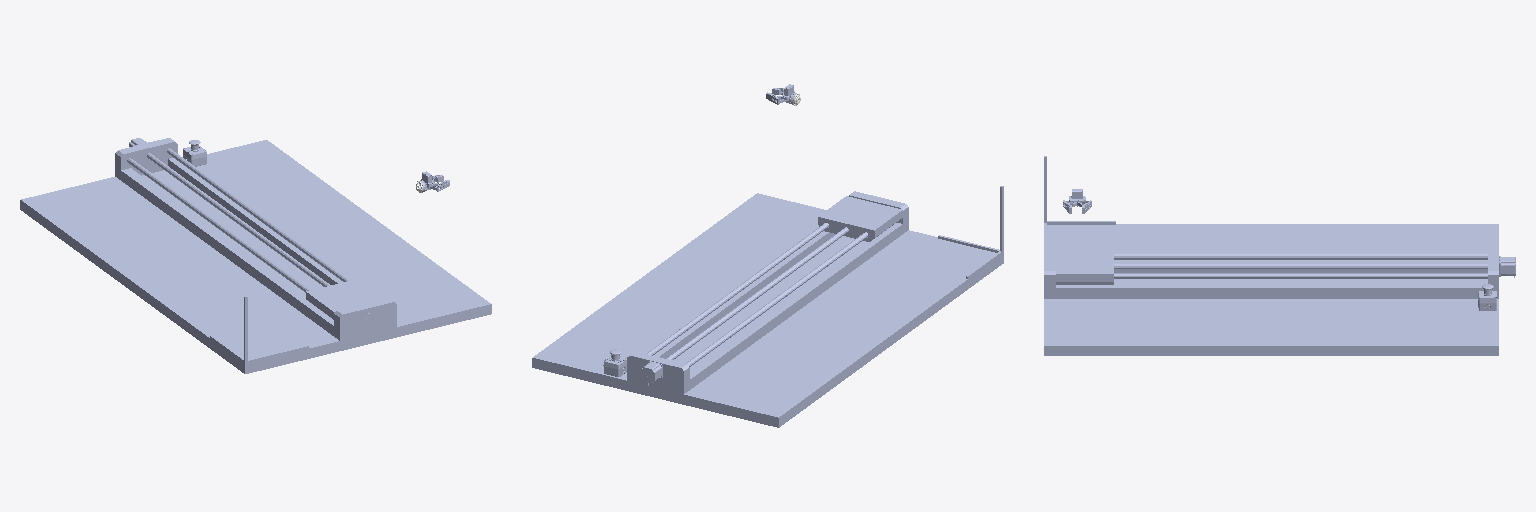
URDF robot description (URDF_Assembly_6_DOFRA_v3):
<?xml version="1.0" encoding="utf-8"?>
<!-- This URDF was automatically created by SolidWorks to URDF Exporter! Originally created by [author] ([email redacted]) 
     Commit Version: 1.6.0-4-g7f85cfe  Build Version: 1.6.7995.38578
     For more information, please see http://wiki.ros.org/sw_urdf_exporter -->
<robot
  name="URDF_Assembly_6_DOFRA_v3">
  <link
    name="base_link">
    <inertial>
      <origin
        xyz="0.49973 0.79194 -0.013418"
        rpy="0 0 0" />
      <mass
        value="71.56" />
      <inertia
        ixx="14.411"
        ixy="-0.025045"
        ixz="0.0024517"
        iyy="5.3022"
        iyz="0.0039428"
        izz="19.69" />
    </inertial>
    <visual>
      <origin
        xyz="0 0 0"
        rpy="0 0 0" />
      <geometry>
        <mesh
          filename="package://URDF_Assembly_6_DOFRA_v3/meshes/base_link.STL" />
      </geometry>
      <material
        name="">
        <color
          rgba="0.79216 0.81961 0.93333 1" />
      </material>
    </visual>
    <collision>
      <origin
        xyz="0 0 0"
        rpy="0 0 0" />
      <geometry>
        <mesh
          filename="package://URDF_Assembly_6_DOFRA_v3/meshes/base_link.STL" />
      </geometry>
    </collision>
  </link>
  <link
    name="linear_sledge">
    <inertial>
      <origin
        xyz="0 -0.024264 0.1"
        rpy="0 0 0" />
      <mass
        value="1.9919" />
      <inertia
        ixx="0.0070823"
        ixy="6.2528E-19"
        ixz="-4.1748E-19"
        iyy="0.014858"
        iyz="6.6004E-20"
        izz="0.008661" />
    </inertial>
    <visual>
      <origin
        xyz="0 0 0"
        rpy="0 0 0" />
      <geometry>
        <mesh
          filename="package://URDF_Assembly_6_DOFRA_v3/meshes/linear_sledge.STL" />
      </geometry>
      <material
        name="">
        <color
          rgba="0.79216 0.81961 0.93333 1" />
      </material>
    </visual>
    <collision>
      <origin
        xyz="0 0 0"
        rpy="0 0 0" />
      <geometry>
        <mesh
          filename="package://URDF_Assembly_6_DOFRA_v3/meshes/linear_sledge.STL" />
      </geometry>
    </collision>
  </link>
  <joint
    name="linear_axis"
    type="prismatic">
    <origin
      xyz="0.5 0.04 0.095"
      rpy="1.5708 0 3.1416" />
    <parent
      link="base_link" />
    <child
      link="linear_sledge" />
    <axis
      xyz="0 0 1" />
    <limit
      lower="0"
      upper="1.3"
      effort="0"
      velocity="0" />
  </joint>
  <link
    name="link_0">
    <inertial>
      <origin
        xyz="0.022817 0.049403 3.7314E-07"
        rpy="0 0 0" />
      <mass
        value="0.99277" />
      <inertia
        ixx="0.0020036"
        ixy="-0.00015881"
        ixz="-5.4195E-09"
        iyy="0.0044439"
        iyz="-2.3861E-10"
        izz="0.0029527" />
    </inertial>
    <visual>
      <origin
        xyz="0 0 0"
        rpy="0 0 0" />
      <geometry>
        <mesh
          filename="package://URDF_Assembly_6_DOFRA_v3/meshes/link_0.STL" />
      </geometry>
      <material
        name="">
        <color
          rgba="0.79216 0.81961 0.93333 1" />
      </material>
    </visual>
    <collision>
      <origin
        xyz="0 0 0"
        rpy="0 0 0" />
      <geometry>
        <mesh
          filename="package://URDF_Assembly_6_DOFRA_v3/meshes/link_0.STL" />
      </geometry>
    </collision>
  </link>
  <joint
    name="fixed_joint"
    type="fixed">
    <origin
      xyz="0 0 0.1"
      rpy="0 0 0" />
    <parent
      link="linear_sledge" />
    <child
      link="link_0" />
    <axis
      xyz="0 0 0" />
  </joint>
  <link
    name="link1">
    <inertial>
      <origin
        xyz="-0.038493 0.0097978 0.060588"
        rpy="0 0 0" />
      <mass
        value="0.98184" />
      <inertia
        ixx="0.0010908"
        ixy="-9.74E-05"
        ixz="0.00034553"
        iyy="0.0018074"
        iyz="7.0954E-05"
        izz="0.0017078" />
    </inertial>
    <visual>
      <origin
        xyz="0 0 0"
        rpy="0 0 0" />
      <geometry>
        <mesh
          filename="package://URDF_Assembly_6_DOFRA_v3/meshes/link1.STL" />
      </geometry>
      <material
        name="">
        <color
          rgba="0.79216 0.81961 0.93333 1" />
      </material>
    </visual>
    <collision>
      <origin
        xyz="0 0 0"
        rpy="0 0 0" />
      <geometry>
        <mesh
          filename="package://URDF_Assembly_6_DOFRA_v3/meshes/link1.STL" />
      </geometry>
    </collision>
  </link>
  <joint
    name="joint_1"
    type="revolute">
    <origin
      xyz="0 0.092795 0"
      rpy="-1.5708 0 0" />
    <parent
      link="link_0" />
    <child
      link="link1" />
    <axis
      xyz="0 0 1" />
    <limit
      lower="-3.1416"
      upper="3.1416"
      effort="0"
      velocity="0" />
  </joint>
  <link
    name="link_2">
    <inertial>
      <origin
        xyz="2.3648E-05 0.096574 0.027873"
        rpy="0 0 0" />
      <mass
        value="0.42972" />
      <inertia
        ixx="0.00089288"
        ixy="-1.0303E-07"
        ixz="-4.4736E-08"
        iyy="0.00018276"
        iyz="2.4405E-05"
        izz="0.0010193" />
    </inertial>
    <visual>
      <origin
        xyz="0 0 0"
        rpy="0 0 0" />
      <geometry>
        <mesh
          filename="package://URDF_Assembly_6_DOFRA_v3/meshes/link_2.STL" />
      </geometry>
      <material
        name="">
        <color
          rgba="0.79216 0.81961 0.93333 1" />
      </material>
    </visual>
    <collision>
      <origin
        xyz="0 0 0"
        rpy="0 0 0" />
      <geometry>
        <mesh
          filename="package://URDF_Assembly_6_DOFRA_v3/meshes/link_2.STL" />
      </geometry>
    </collision>
  </link>
  <joint
    name="joint_2"
    type="revolute">
    <origin
      xyz="-0.0700000000000002 -0.0264909444637413 0.0882010969463582"
      rpy="1.5707963267949 0 0" />
    <parent
      link="link1" />
    <child
      link="link_2" />
    <axis
      xyz="0 0 1" />
    <limit
      lower="-1.7453"
      upper="2.5307"
      effort="0"
      velocity="0" />
  </joint>
  <link
    name="link_3">
    <inertial>
      <origin
        xyz="-0.0242439731627712 0.01222934137209 0.0429988431408907"
        rpy="0 0 0" />
      <mass
        value="0.332912677350856" />
      <inertia
        ixx="0.000219724299078548"
        ixy="3.32243571175575E-06"
        ixz="3.22811740352238E-06"
        iyy="0.000139542421693531"
        iyz="-2.84256482328001E-05"
        izz="0.000169390504538882" />
    </inertial>
    <visual>
      <origin
        xyz="0 0 0"
        rpy="0 0 0" />
      <geometry>
        <mesh
          filename="package://URDF_Assembly_6_DOFRA_v3/meshes/link_3.STL" />
      </geometry>
      <material
        name="">
        <color
          rgba="0.792156862745098 0.819607843137255 0.933333333333333 1" />
      </material>
    </visual>
    <collision>
      <origin
        xyz="0 0 0"
        rpy="0 0 0" />
      <geometry>
        <mesh
          filename="package://URDF_Assembly_6_DOFRA_v3/meshes/link_3.STL" />
      </geometry>
    </collision>
  </link>
  <joint
    name="joint_3"
    type="revolute">
    <origin
      xyz="0 0.15 0"
      rpy="3.14159265358979 0 3.14159265358979" />
    <parent
      link="link_2" />
    <child
      link="link_3" />
    <axis
      xyz="0 0 1" />
    <limit
      lower="-3.1416"
      upper="3.1416"
      effort="0"
      velocity="0" />
  </joint>
  <link
    name="link_4">
    <inertial>
      <origin
        xyz="3.59874941199129E-05 -4.4233580096531E-06 0.0793180734125305"
        rpy="0 0 0" />
      <mass
        value="0.433556208010063" />
      <inertia
        ixx="0.00043478839151472"
        ixy="-3.05324416344868E-06"
        ixz="3.21839443025213E-07"
        iyy="0.000326743926124794"
        iyz="-1.28510846534109E-07"
        izz="0.0001784335160446" />
    </inertial>
    <visual>
      <origin
        xyz="0 0 0"
        rpy="0 0 0" />
      <geometry>
        <mesh
          filename="package://URDF_Assembly_6_DOFRA_v3/meshes/link_4.STL" />
      </geometry>
      <material
        name="">
        <color
          rgba="0.792156862745098 0.819607843137255 0.933333333333333 1" />
      </material>
    </visual>
    <collision>
      <origin
        xyz="0 0 0"
        rpy="0 0 0" />
      <geometry>
        <mesh
          filename="package://URDF_Assembly_6_DOFRA_v3/meshes/link_4.STL" />
      </geometry>
    </collision>
  </link>
  <joint
    name="joint_4"
    type="revolute">
    <origin
      xyz="0.0104999999999973 0.0349999999999985 0.0524909444637412"
      rpy="0 1.5707963267949 0" />
    <parent
      link="link_3" />
    <child
      link="link_4" />
    <axis
      xyz="0 0 -1" />
    <limit
      lower="-3.1416"
      upper="3.1416"
      effort="0"
      velocity="0" />
  </joint>
  <link
    name="link_5">
    <inertial>
      <origin
        xyz="1.82785163393984E-09 -1.98699304896355E-05 0.00734024876897377"
        rpy="0 0 0" />
      <mass
        value="0.0558248618031194" />
      <inertia
        ixx="1.47973820073645E-05"
        ixy="7.1288926964454E-13"
        ixz="5.8814895306997E-12"
        iyy="9.08387594285802E-06"
        iyz="-4.44650780264743E-09"
        izz="9.78331471020237E-06" />
    </inertial>
    <visual>
      <origin
        xyz="0 0 0"
        rpy="0 0 0" />
      <geometry>
        <mesh
          filename="package://URDF_Assembly_6_DOFRA_v3/meshes/link_5.STL" />
      </geometry>
      <material
        name="">
        <color
          rgba="0.792156862745098 0.819607843137255 0.933333333333333 1" />
      </material>
    </visual>
    <collision>
      <origin
        xyz="0 0 0"
        rpy="0 0 0" />
      <geometry>
        <mesh
          filename="package://URDF_Assembly_6_DOFRA_v3/meshes/link_5.STL" />
      </geometry>
    </collision>
  </link>
  <joint
    name="joint_5"
    type="revolute">
    <origin
      xyz="0 0 0.157500000000004"
      rpy="0 0 3.14159265358979" />
    <parent
      link="link_4" />
    <child
      link="link_5" />
    <axis
      xyz="1 0 0" />
    <limit
      lower="-3.1416"
      upper="3.1416"
      effort="0"
      velocity="0" />
  </joint>
  <link
    name="link_6">
    <inertial>
      <origin
        xyz="0 -4.16333634234434E-17 0.0067746717080025"
        rpy="0 0 0" />
      <mass
        value="0.00699961434313697" />
      <inertia
        ixx="7.10744988499904E-07"
        ixy="7.18131478686715E-22"
        ixz="8.39981245119167E-23"
        iyy="7.10744988499906E-07"
        iyz="-2.10277728819863E-21"
        izz="1.30114998340272E-06" />
    </inertial>
    <visual>
      <origin
        xyz="0 0 0"
        rpy="0 0 0" />
      <geometry>
        <mesh
          filename="package://URDF_Assembly_6_DOFRA_v3/meshes/link_6.STL" />
      </geometry>
      <material
        name="">
        <color
          rgba="1 1 1 0.25" />
      </material>
    </visual>
    <collision>
      <origin
        xyz="0 0 0"
        rpy="0 0 0" />
      <geometry>
        <mesh
          filename="package://URDF_Assembly_6_DOFRA_v3/meshes/link_6.STL" />
      </geometry>
    </collision>
  </link>
  <joint
    name="joint_6"
    type="revolute">
    <origin
      xyz="0 0 0.0265"
      rpy="0 0 -1.5707963267949" />
    <parent
      link="link_5" />
    <child
      link="link_6" />
    <axis
      xyz="0 0 1" />
    <limit
      lower="-3.1416"
      upper="3.1416"
      effort="0"
      velocity="0" />
  </joint>
  <link
    name="gripper">
    <inertial>
      <origin
        xyz="0.00841398982929481 2.83684403782486E-05 -0.0524240140943212"
        rpy="0 0 0" />
      <mass
        value="0.0916195550118164" />
      <inertia
        ixx="2.08265322233121E-05"
        ixy="5.83601468914511E-08"
        ixz="-3.24087205990821E-07"
        iyy="1.5425871880046E-05"
        iyz="2.72755333210117E-09"
        izz="1.98179170006844E-05" />
    </inertial>
    <visual>
      <origin
        xyz="0 0 0"
        rpy="0 0 0" />
      <geometry>
        <mesh
          filename="package://URDF_Assembly_6_DOFRA_v3/meshes/gripper.STL" />
      </geometry>
      <material
        name="">
        <color
          rgba="0.792156862745098 0.819607843137255 0.933333333333333 1" />
      </material>
    </visual>
    <collision>
      <origin
        xyz="0 0 0"
        rpy="0 0 0" />
      <geometry>
        <mesh
          filename="package://URDF_Assembly_6_DOFRA_v3/meshes/gripper.STL" />
      </geometry>
    </collision>
  </link>
  <joint
    name="gripper"
    type="fixed">
    <origin
      xyz="0 0 0.105361743965458"
      rpy="0 0 0" />
    <parent
      link="link_6" />
    <child
      link="gripper" />
    <axis
      xyz="0 0 0" />
  </joint>
</robot>

--- What the picture shows (computed from the rendered views, not written in the file) ---
Views: 3 orthographic renders of the robot side by side, from view 1: azimuth 30°, elevation 25°; view 2: azimuth 150°, elevation 25°; view 3: azimuth 270°, elevation 25°.
Robot: URDF_Assembly_6_DOFRA_v3 — 10 links, 9 joints (6 revolute, 1 prismatic, 2 fixed); root link base_link; default pose: every joint at zero.
Links seen in each view (by area): view 1: base_link, linear_sledge; view 2: base_link, linear_sledge; view 3: base_link, linear_sledge.
Boxes of the visible links, x1,y1,x2,y2 form: base_link: (20,138,491,373); linear_sledge: (306,278,390,319); base_link: (532,186,1003,427); linear_sledge: (818,196,902,241); base_link: (1044,156,1515,355); linear_sledge: (1056,246,1113,284).
Bounding box of the posed robot: 1 × 1.64 × 0.545 m (x, y, z).
4 mesh visuals loaded from 10 distinct referenced files (4 binary STL); not drawn: 6 (reference not matched to a file when rendering).